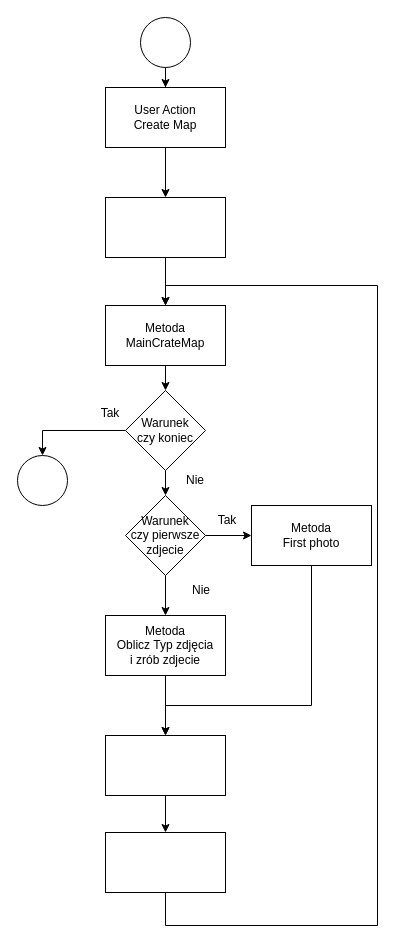
Image size: 403x951. Some labels were removed from this diagram. Here are the shapes that lost their labels. From the top down, the centre of each, then its label:
At (165,227): "Konstruktor Map Object".
At (165,765): "Metoda Oblicz Następna pozycje manipulatora".
At (165,862): "Metoda Manipulator GO To".
